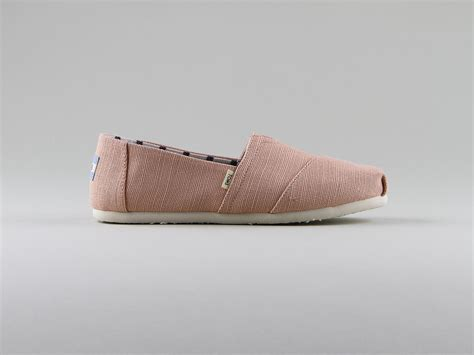nylon: (89, 129, 399, 215)
